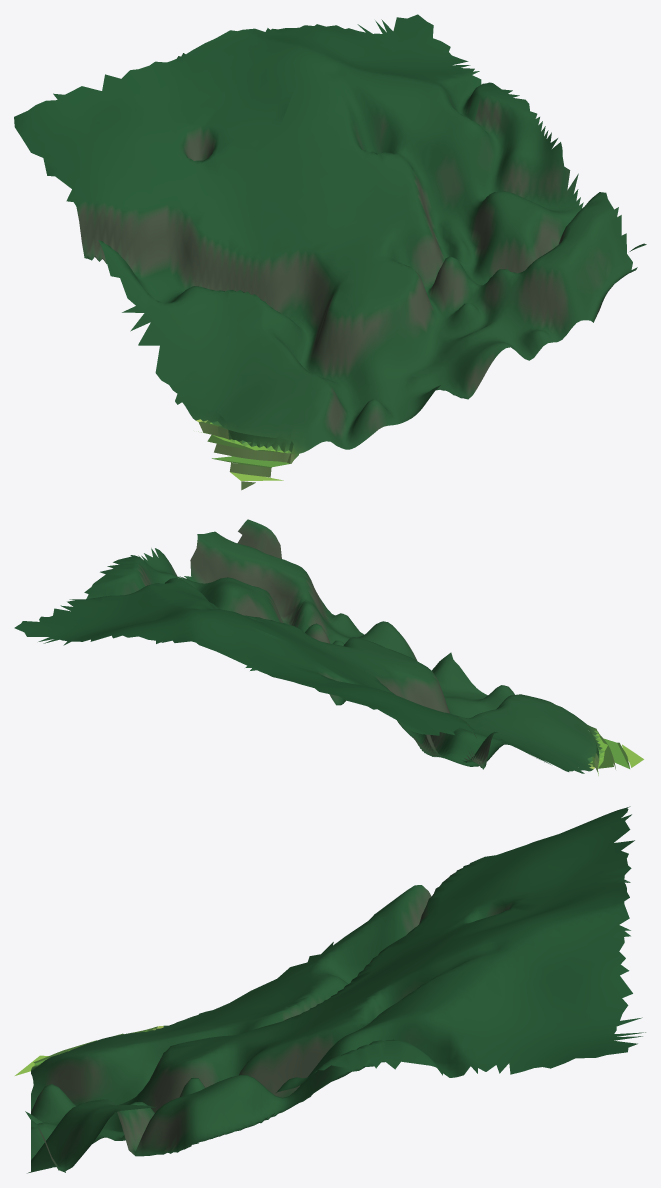
The model's file is payo_land_xm4_y5.glb.
3 renders of one model, top to bottom at view 1: azimuth 30°, elevation 25°; view 2: azimuth 150°, elevation 25°; view 3: azimuth 270°, elevation 25°, orthographic. The views are drawn at different scales.
Parts seen in each view (by area): view 1: payo_land_xm4_y5; view 2: payo_land_xm4_y5; view 3: payo_land_xm4_y5.
Part boxes in pixels (bbox=[...]): payo_land_xm4_y5: bbox=[14, 14, 646, 490]; payo_land_xm4_y5: bbox=[14, 519, 643, 775]; payo_land_xm4_y5: bbox=[15, 806, 645, 1173].
Bounding box in the file's own units: 267 × 145 × 272.
